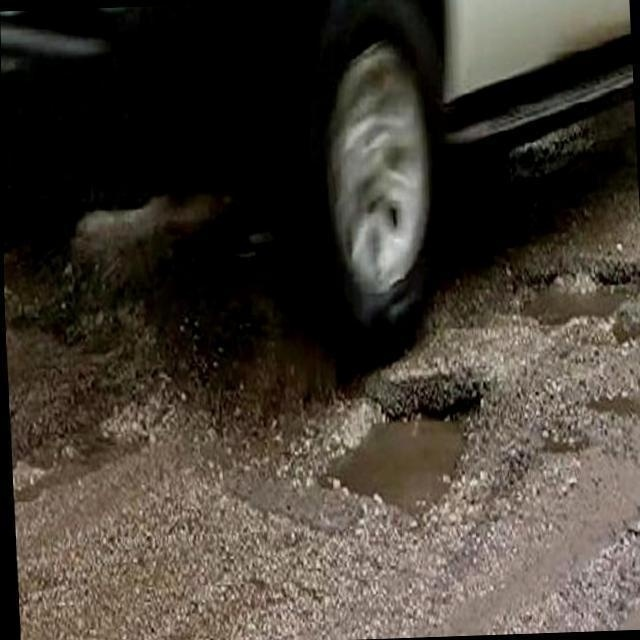pothole: (322, 368, 472, 512), (524, 247, 635, 350)
